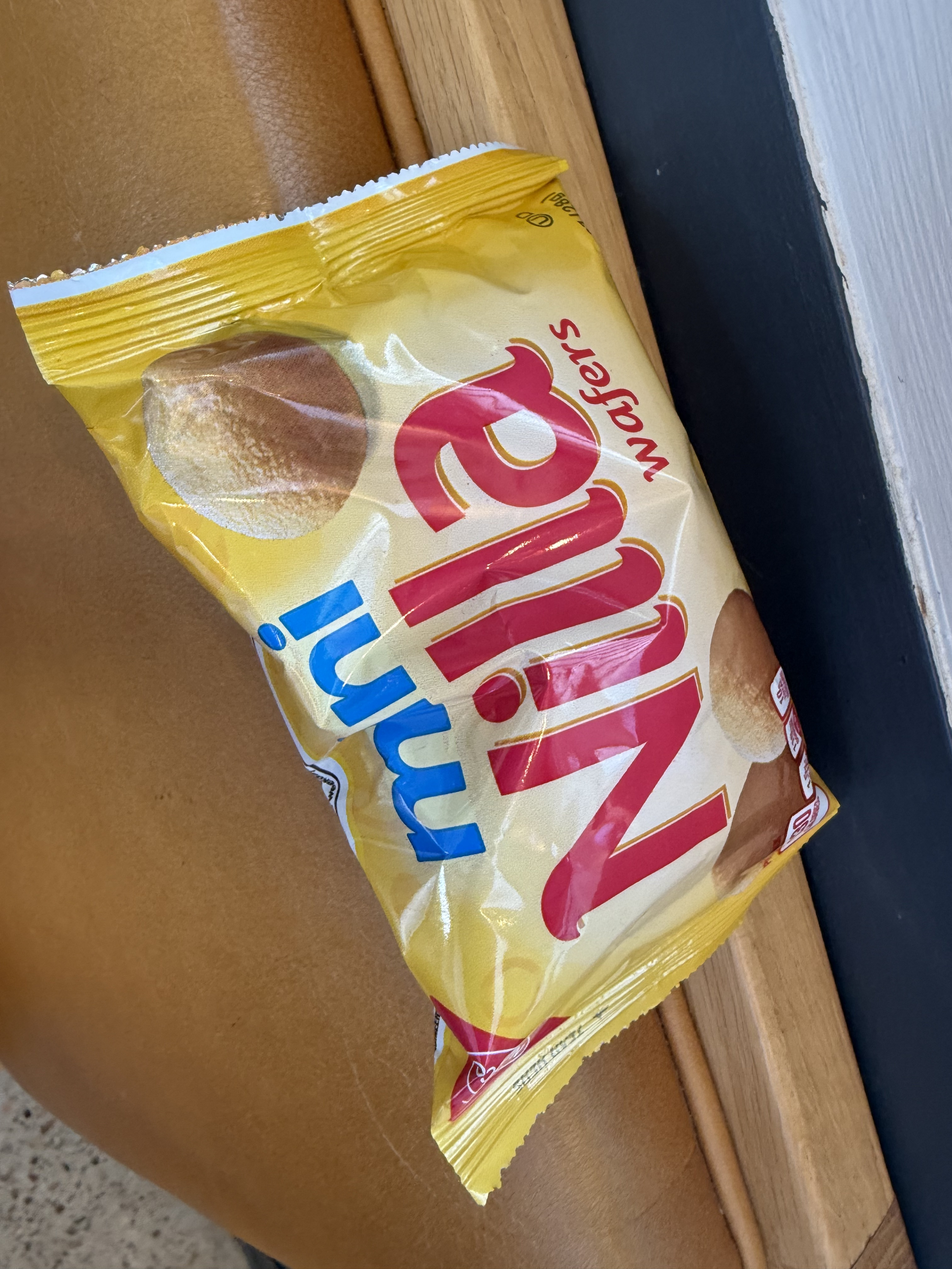nilla: (101, 215, 854, 1147)
